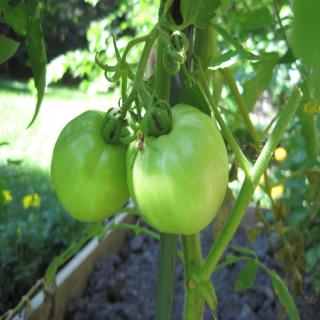tomato: (123, 85, 228, 237), (50, 109, 132, 223)
